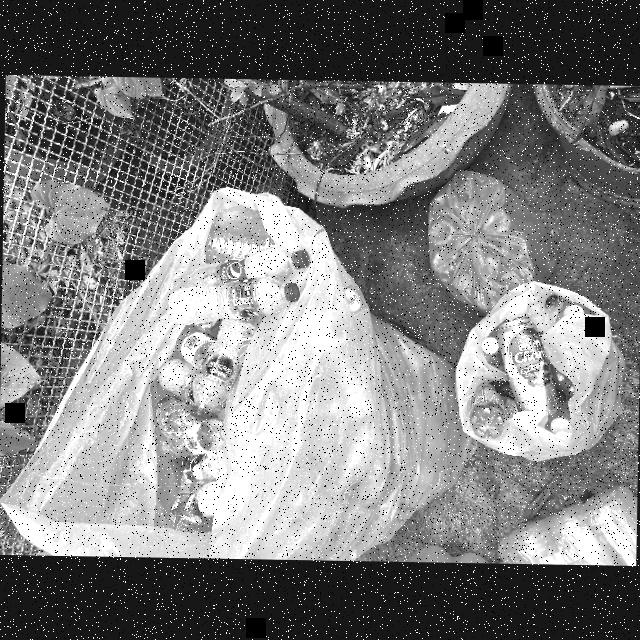can: (494, 318, 556, 412)
plastic_bag: (0, 184, 492, 562), (453, 281, 624, 464), (424, 168, 560, 314), (498, 482, 637, 565)
plastic_bottle: (188, 314, 260, 420), (167, 274, 300, 326), (186, 244, 310, 292), (157, 418, 233, 459), (202, 230, 281, 264), (467, 382, 504, 440), (157, 358, 201, 403), (166, 480, 203, 533), (150, 394, 192, 439), (172, 326, 215, 368), (192, 448, 224, 480), (196, 479, 220, 518), (544, 406, 570, 436), (192, 317, 220, 339)
plastic_bottle_cap: (548, 416, 568, 434), (562, 304, 582, 322), (480, 336, 498, 354), (283, 282, 298, 302), (292, 250, 308, 268), (188, 405, 208, 419), (494, 380, 508, 396), (191, 463, 202, 479), (218, 424, 228, 441), (552, 389, 564, 403)
